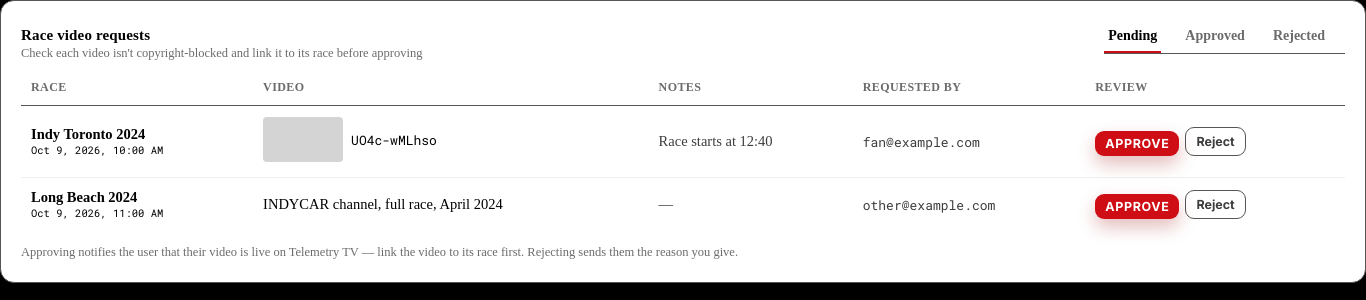
Test case: approving clears the request from the queue
This screenshot has width=1366, height=300.
Click the button with aria-label "Approve Indy Toronto 2024" at (1137, 144), box [1095,131,1180,156]
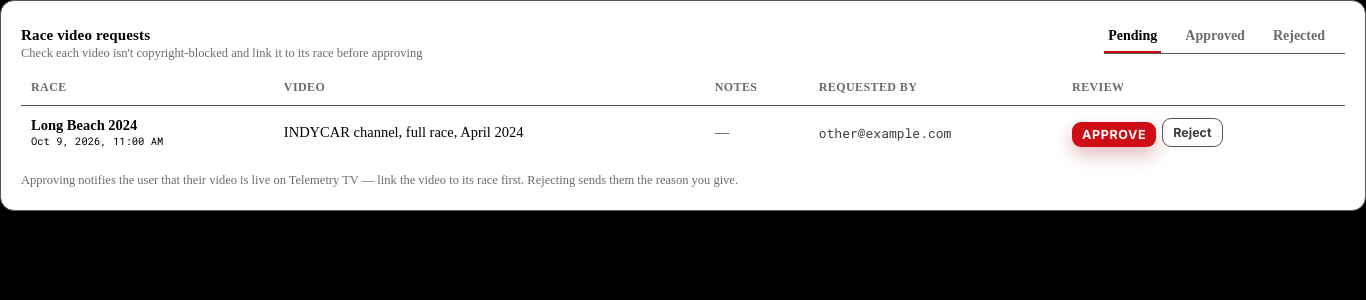
Expected: the text "Long Beach 2024" is shown, [31,117,137,133]
Now the text "Indy Toronto 2024" is gone
